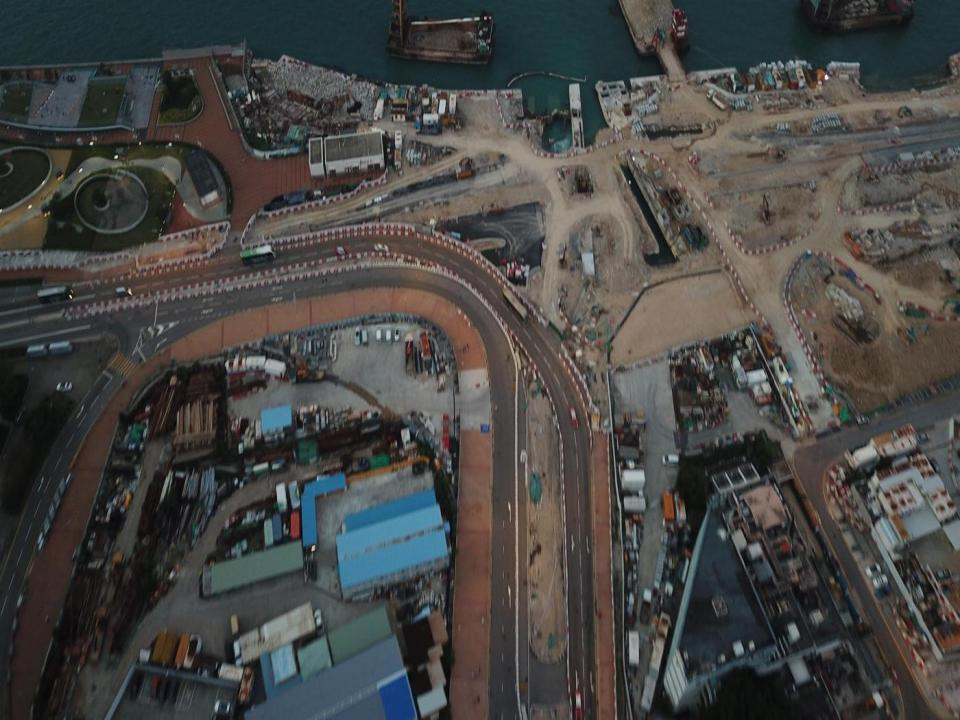bus: (239, 244, 276, 263)
car: (314, 609, 324, 634), (224, 640, 233, 664), (574, 692, 582, 719), (874, 586, 891, 598), (569, 408, 578, 428), (375, 243, 388, 253), (56, 382, 72, 390), (211, 713, 230, 719), (335, 246, 348, 254), (386, 326, 392, 343), (394, 326, 400, 343), (376, 326, 381, 344)
truck: (38, 287, 72, 302), (232, 641, 243, 667)
van: (130, 674, 141, 699), (158, 679, 168, 703), (168, 680, 178, 704), (214, 700, 231, 713), (866, 562, 881, 576), (116, 285, 132, 297), (873, 574, 888, 586), (662, 454, 679, 464), (937, 569, 952, 580), (151, 677, 159, 697), (362, 327, 368, 345), (355, 326, 360, 346)
